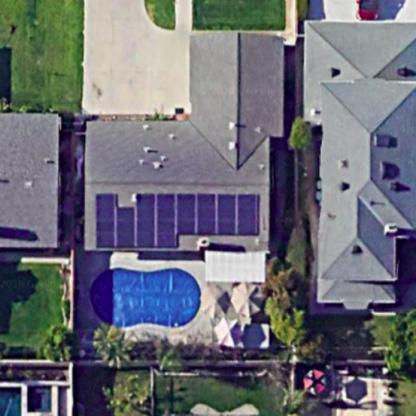solar_panel: (87, 186, 267, 248)
swimming_pool: (82, 263, 205, 330)
